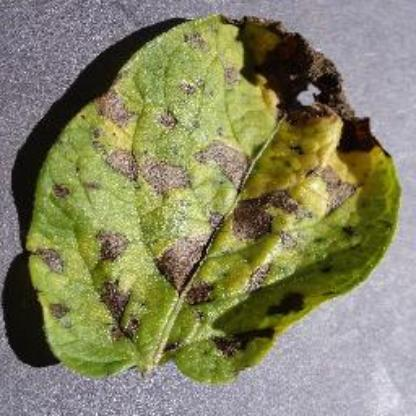Early-Blight: (22, 11, 410, 383)
